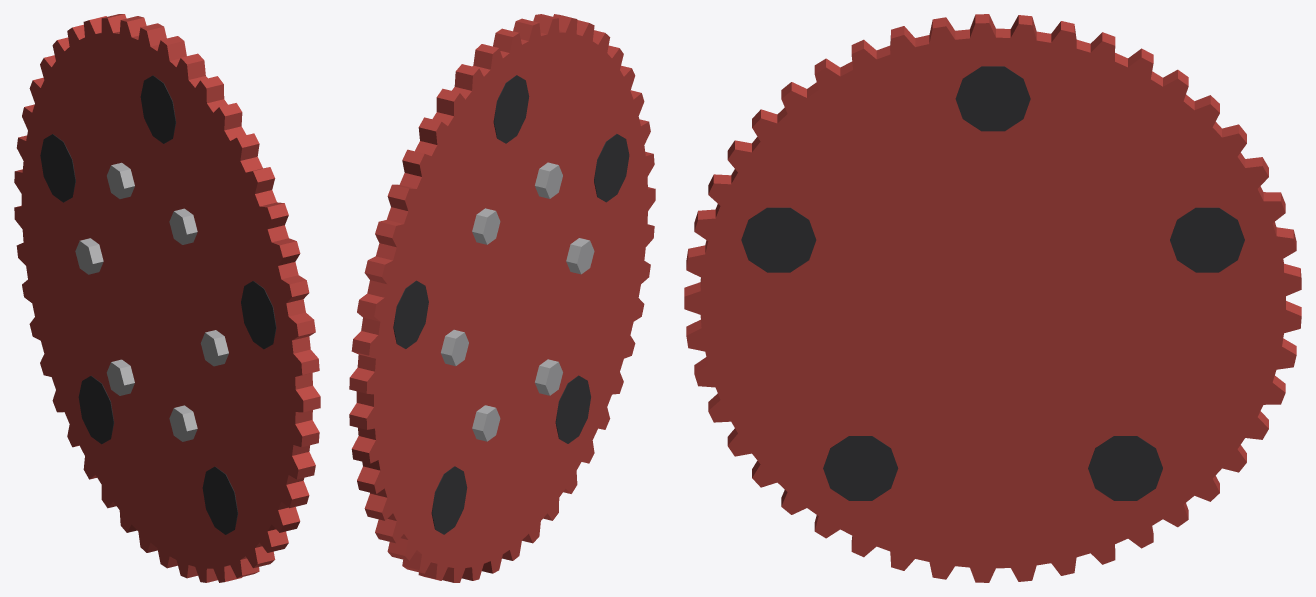
The model's file is rear_45.glb.
3 views of the same model, side by side, from view 1: azimuth 30°, elevation 25°; view 2: azimuth 150°, elevation 25°; view 3: azimuth 270°, elevation 25° (orthographic). The views are drawn at different scales.
Parts seen in each view (by area): view 1: lod0; view 2: lod0; view 3: lod0.
Boxes of the visible parts, <box> form: lod0: <box>14,14,320,582</box>; lod0: <box>349,14,655,582</box>; lod0: <box>684,14,1301,582</box>.
Size of what is drawn, in the model's own units: 0.0137 by 0.2306 by 0.2304.
